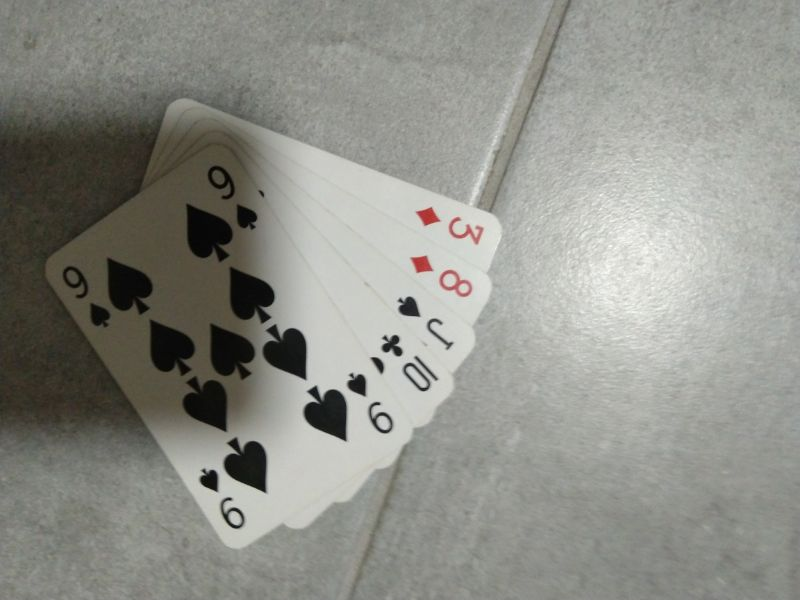3d: (411, 201, 487, 250)
8d: (406, 249, 478, 302)
9s: (204, 159, 262, 237), (59, 262, 114, 331), (343, 368, 397, 437), (197, 464, 249, 530)
Js: (393, 292, 459, 352)
Tc: (375, 328, 442, 395)
